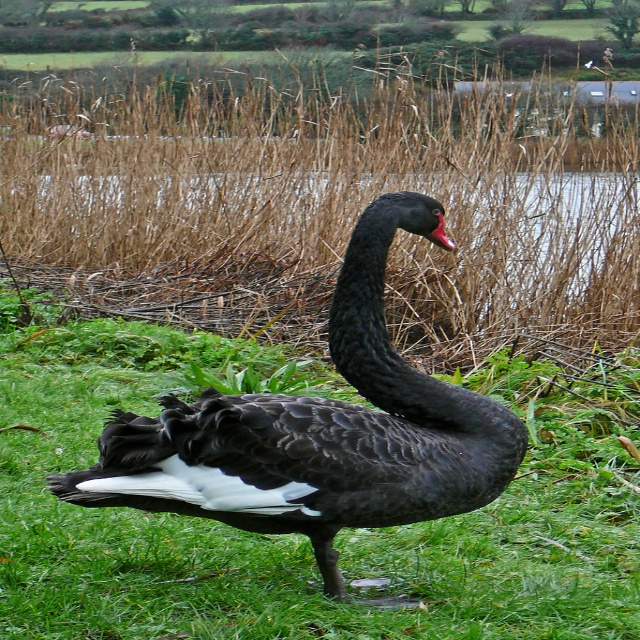Swan: (42, 191, 530, 608)
